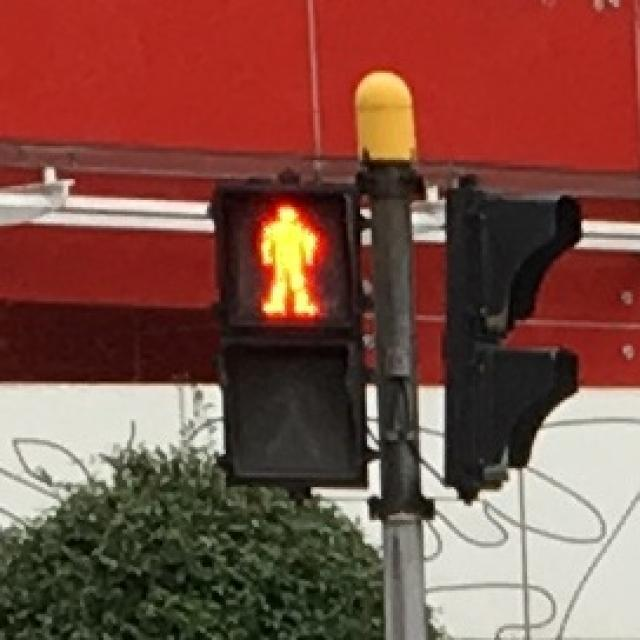red-crossing: (238, 188, 338, 325)
